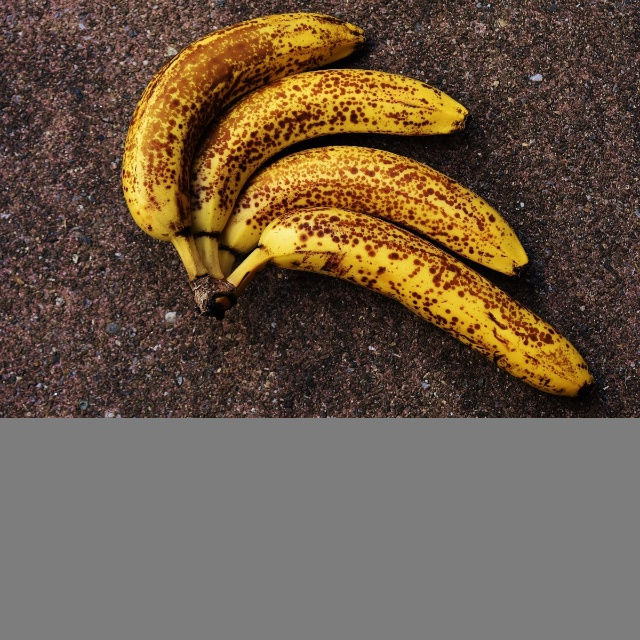chuoi: (108, 10, 602, 393)
